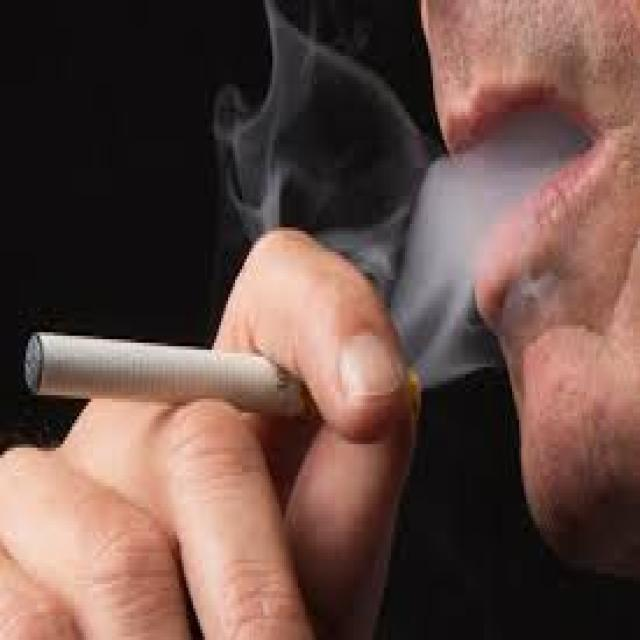rokok: (20, 328, 428, 428)
